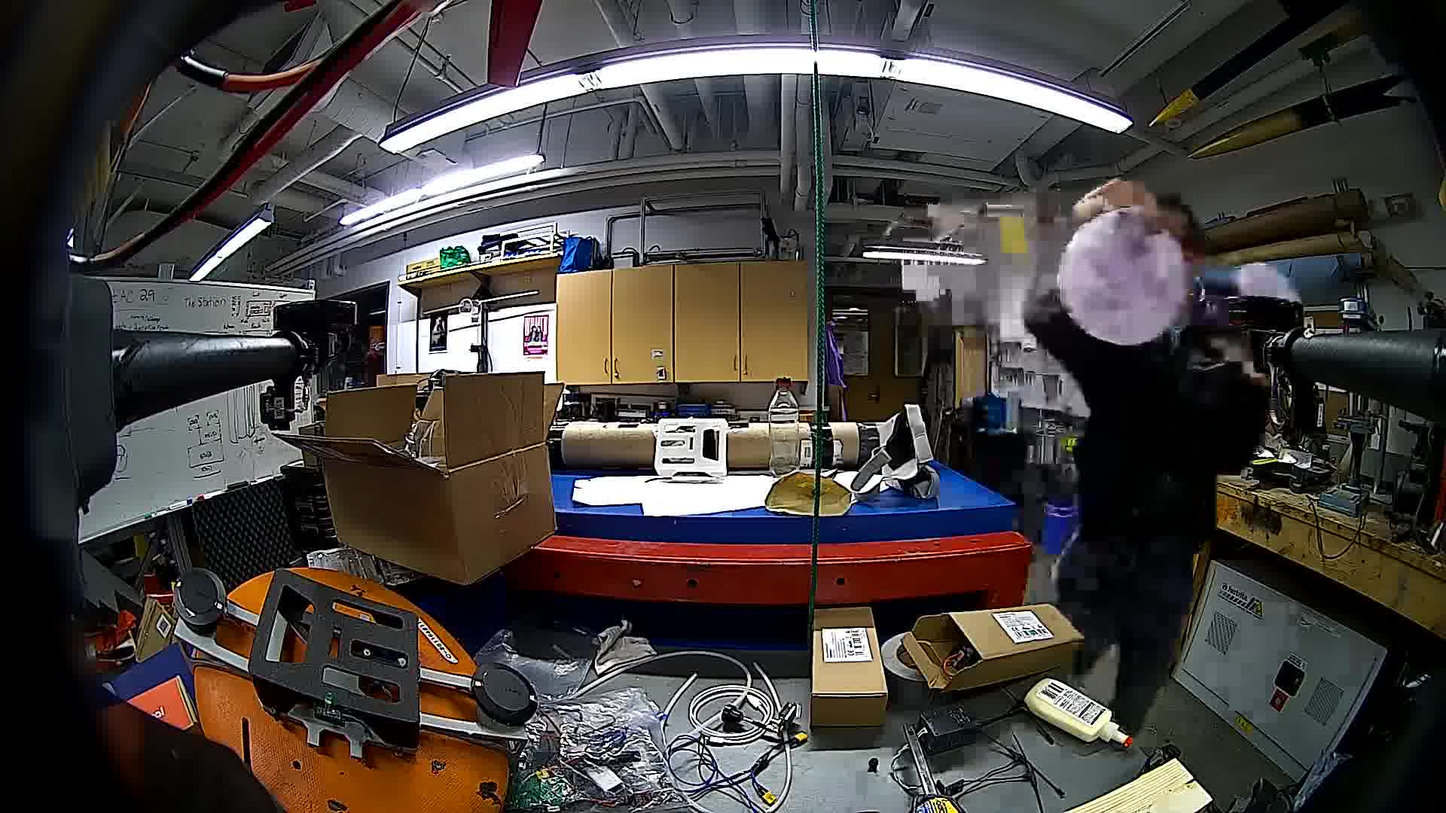Target: (1058, 209, 1197, 351)
